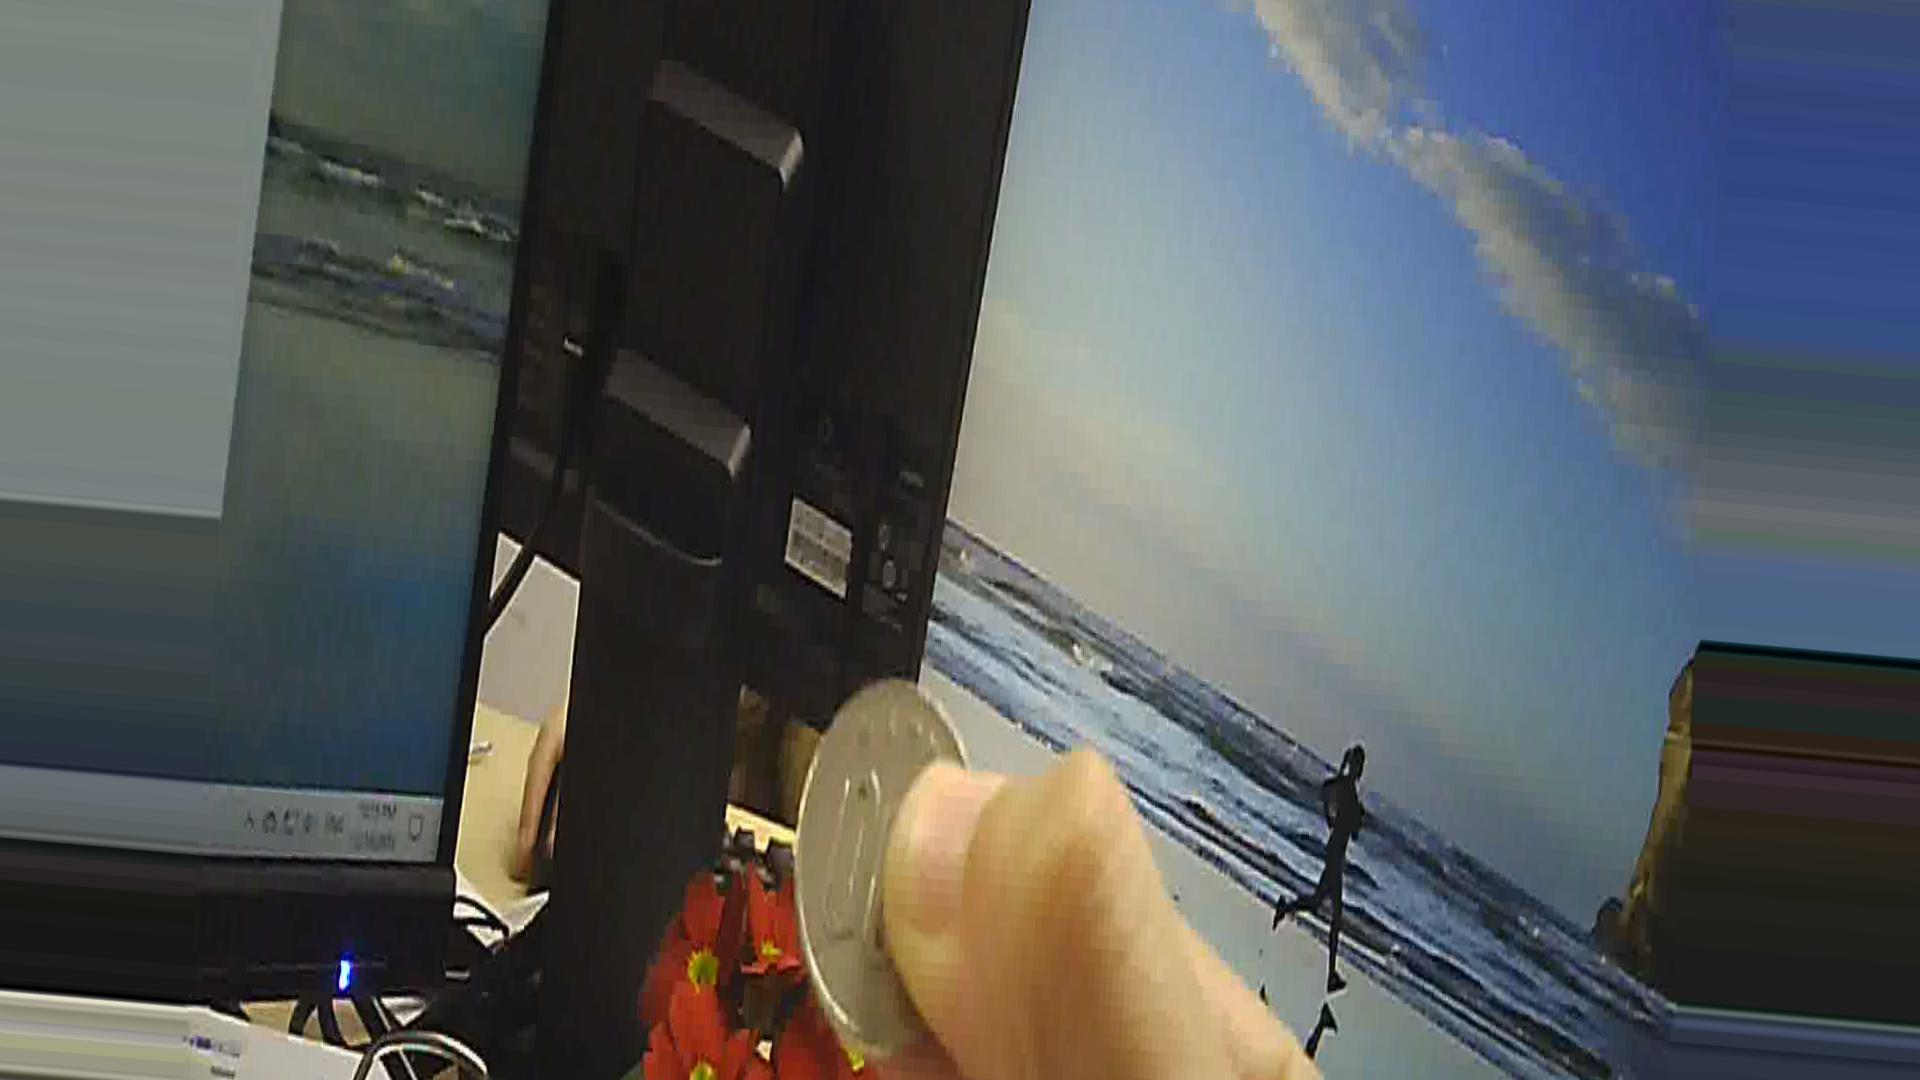100 Yen: (789, 666, 989, 1065)
